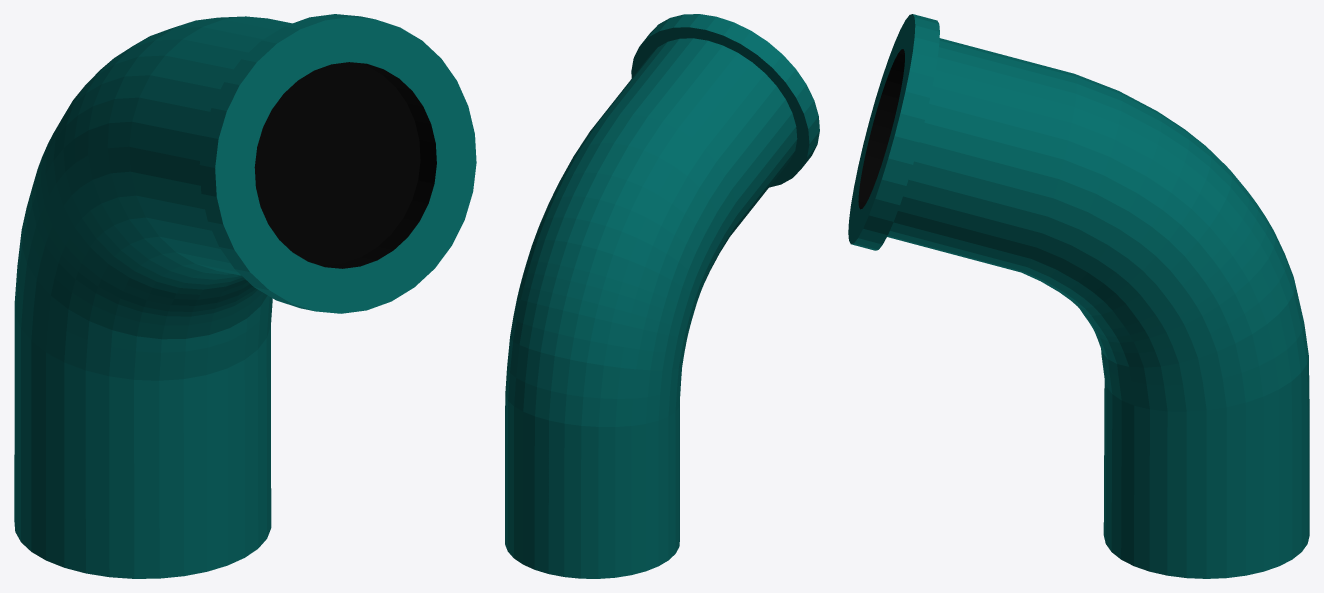
Rendered from Pipe.glb.
The picture shows the model from 3 angles, left to right: view 1: azimuth 30°, elevation 25°; view 2: azimuth 150°, elevation 25°; view 3: azimuth 270°, elevation 25°; orthographic projection. The views are drawn at different scales.
Visible parts, largest first — view 1: Cylinder; view 2: Cylinder; view 3: Cylinder.
Boxes of the visible parts, box(x1,y1,x2,y2) form: Cylinder: box(14, 14, 476, 578); Cylinder: box(505, 14, 819, 578); Cylinder: box(848, 14, 1309, 578).
Size of the model in its own units: 0.307 by 0.7242 by 0.5936.
